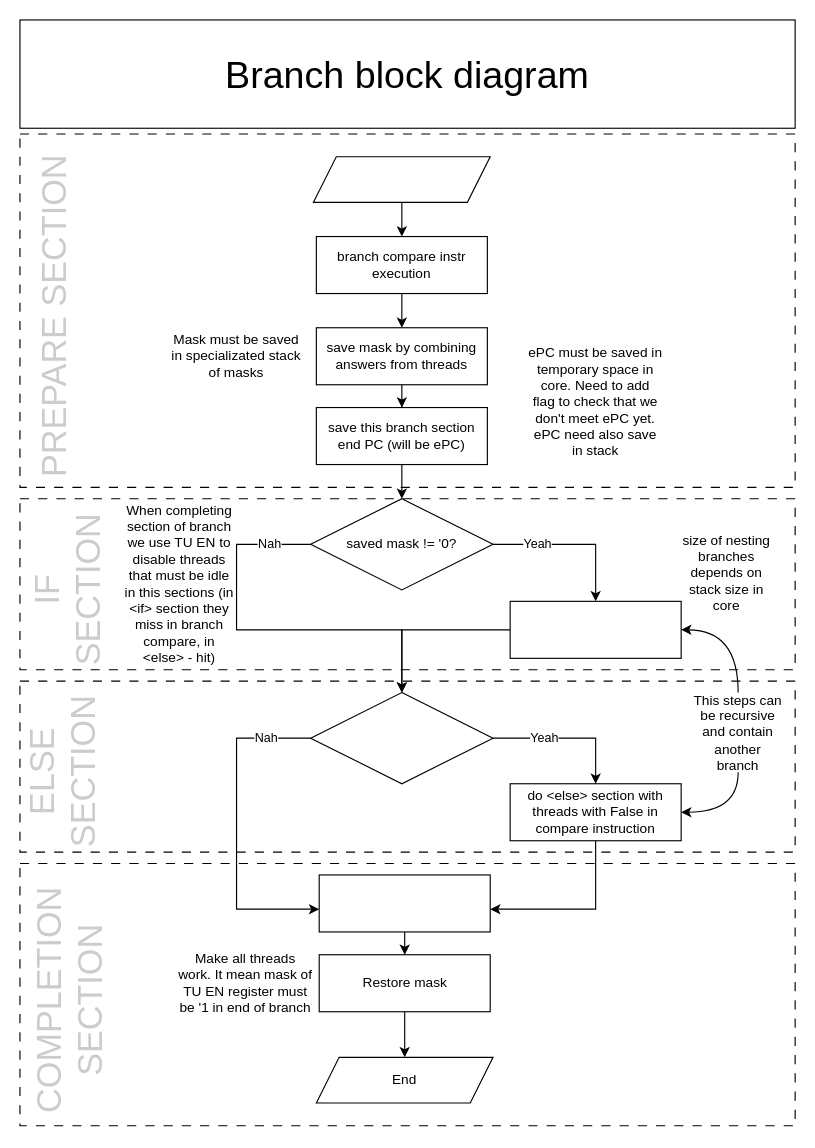
Image size: 815x1148. Some labels were removed from this diagram. Each missing label, with the centre of its shape:
do <if> section with threads with TRUE in compare instruction: point 595,629
Meet ePC: point 404,903
saved mask != '1?: point 401,737
Start: point 401,179
